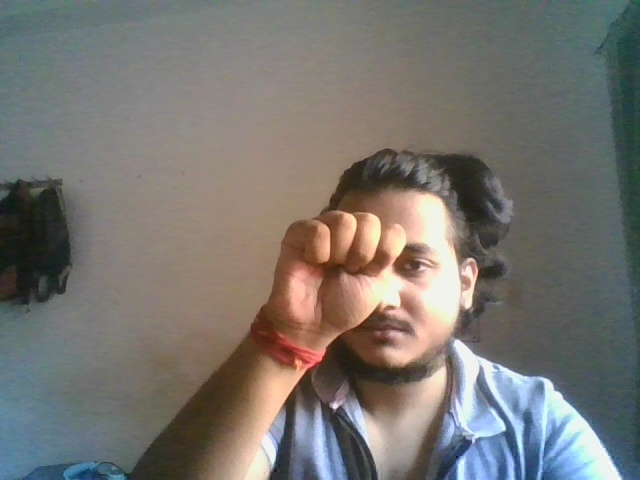Close: (267, 210, 408, 332)
